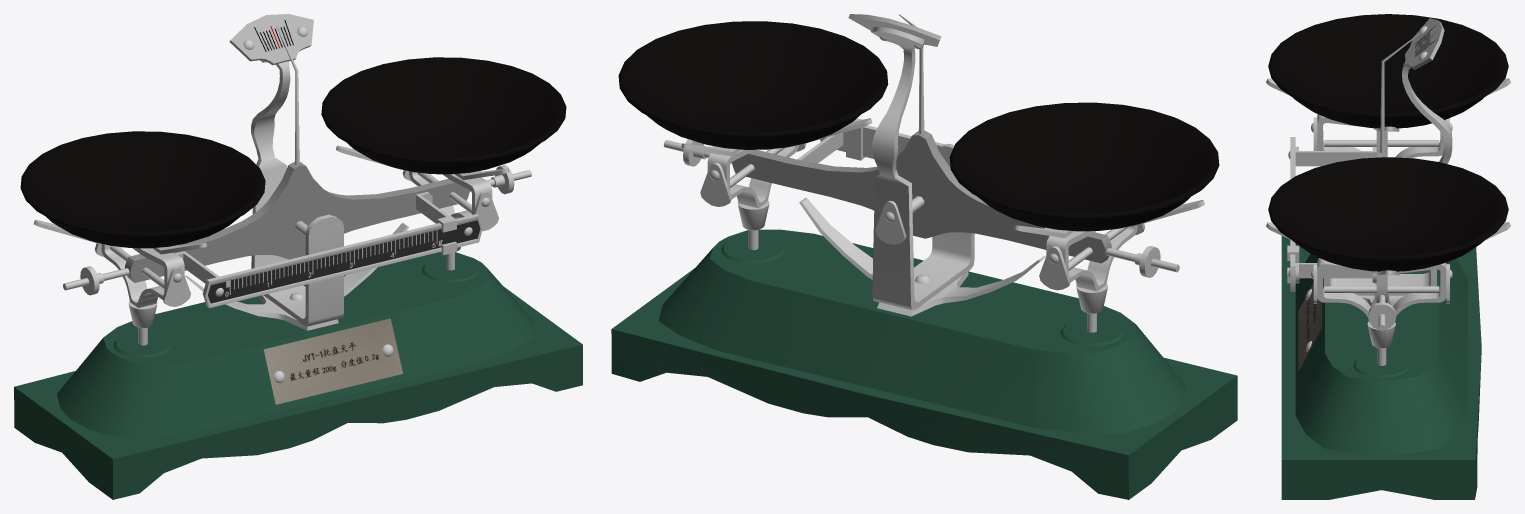
3 views of the same model, side by side, from view 1: azimuth 30°, elevation 25°; view 2: azimuth 150°, elevation 25°; view 3: azimuth 270°, elevation 25° (orthographic). The views are drawn at different scales.
Parts seen in each view (by area): view 1: BalanceBaseDown_BalanceBaseDown_0, BalanceTrayRight_BalanceTray_0, BalanceTrayLeft_BalanceTray_0, BalanceMainPole_BalanceMainPoleMetal_0, BalanceBaseup_BalanceBaseMetal_0, BalanceBaseLabel_BalanceLabel_0, BalanceDialLabel_BalanceLabel_0, BalanceTrayHolderLeft_BalanceBaseMetal_0, BalanceDial_BalanceBaseMetal_0, BalanceDialUp, BalanceTrayHolderRight_BalanceBaseMetal_0, BalanceMainPolePart_BalanceBaseMetal_0; view 2: BalanceBaseDown_BalanceBaseDown_0, BalanceTrayLeft_BalanceTray_0, BalanceTrayRight_BalanceTray_0, BalanceBaseup_BalanceBaseMetal_0, BalanceMainPole_BalanceMainPoleMetal_0, BalanceTrayHolderLeft_BalanceBaseMetal_0, BalanceTrayHolderRight_BalanceBaseMetal_0, BalanceDialUp, BalanceMainPolePart_BalanceBaseMetal_0, BalanceDial_BalanceBaseMetal_0; view 3: BalanceBaseDown_BalanceBaseDown_0, BalanceTrayRight_BalanceTray_0, BalanceTrayLeft_BalanceTray_0, BalanceTrayHolderRight_BalanceBaseMetal_0, BalanceBaseup_BalanceBaseMetal_0, BalanceTrayHolderLeft_BalanceBaseMetal_0, BalanceMainPolePart_BalanceBaseMetal_0, BalanceBaseLabel_BalanceLabel_0, BalanceDialUp, BalanceDrumNutRight_BalanceBaseMetal_0, BalanceMainPole_BalanceMainPoleMetal_0, BalancePointer_BalanceBaseMetal_0 (+1 smaller).
Part boxes in pixels (bbox=[...]): BalanceBaseDown_BalanceBaseDown_0: bbox=[14, 252, 582, 499]; BalanceTrayRight_BalanceTray_0: bbox=[321, 57, 566, 174]; BalanceTrayLeft_BalanceTray_0: bbox=[20, 131, 265, 248]; BalanceMainPole_BalanceMainPoleMetal_0: bbox=[125, 161, 469, 282]; BalanceBaseup_BalanceBaseMetal_0: bbox=[185, 60, 408, 330]; BalanceBaseLabel_BalanceLabel_0: bbox=[263, 318, 402, 404]; BalanceDialLabel_BalanceLabel_0: bbox=[208, 220, 480, 303]; BalanceTrayHolderLeft_BalanceBaseMetal_0: bbox=[34, 220, 207, 345]; BalanceDial_BalanceBaseMetal_0: bbox=[203, 214, 482, 307]; BalanceDialUp: bbox=[229, 14, 313, 65]; BalanceTrayHolderRight_BalanceBaseMetal_0: bbox=[336, 145, 509, 270]; BalanceMainPolePart_BalanceBaseMetal_0: bbox=[175, 192, 468, 284]; BalanceBaseDown_BalanceBaseDown_0: bbox=[611, 229, 1237, 499]; BalanceTrayLeft_BalanceTray_0: bbox=[949, 102, 1219, 231]; BalanceTrayRight_BalanceTray_0: bbox=[618, 21, 888, 149]; BalanceBaseup_BalanceBaseMetal_0: bbox=[799, 27, 1045, 316]; BalanceMainPole_BalanceMainPoleMetal_0: bbox=[732, 130, 1111, 263]; BalanceTrayHolderLeft_BalanceBaseMetal_0: bbox=[1013, 200, 1204, 332]; BalanceTrayHolderRight_BalanceBaseMetal_0: bbox=[681, 118, 872, 250]; BalanceDialUp: bbox=[848, 14, 941, 46]; BalanceMainPolePart_BalanceBaseMetal_0: bbox=[797, 133, 843, 163]; BalanceDial_BalanceBaseMetal_0: bbox=[820, 125, 945, 158]; BalanceBaseDown_BalanceBaseDown_0: bbox=[1281, 236, 1481, 499]; BalanceTrayRight_BalanceTray_0: bbox=[1268, 157, 1508, 271]; BalanceTrayLeft_BalanceTray_0: bbox=[1268, 14, 1508, 128]; BalanceTrayHolderRight_BalanceBaseMetal_0: bbox=[1266, 222, 1510, 365]; BalanceBaseup_BalanceBaseMetal_0: bbox=[1324, 63, 1452, 306]; BalanceTrayHolderLeft_BalanceBaseMetal_0: bbox=[1266, 78, 1510, 158]; BalanceMainPolePart_BalanceBaseMetal_0: bbox=[1295, 146, 1376, 282]; BalanceBaseLabel_BalanceLabel_0: bbox=[1298, 283, 1322, 371]; BalanceDialUp: bbox=[1405, 18, 1444, 69]; BalanceDrumNutRight_BalanceBaseMetal_0: bbox=[1368, 302, 1396, 329]; BalanceMainPole_BalanceMainPoleMetal_0: bbox=[1376, 128, 1387, 302]; BalancePointer_BalanceBaseMetal_0: bbox=[1380, 31, 1422, 153].
Size of the model in its own units: 22.08 by 14.96 by 9.22.
5 materials, 1 textured.
